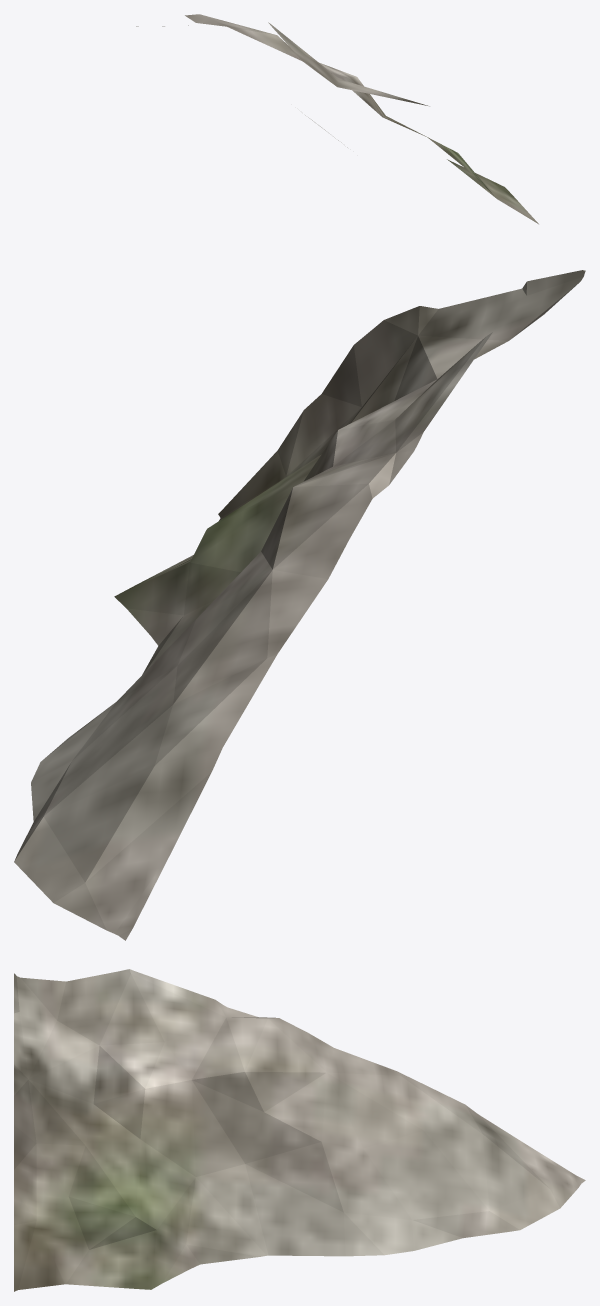
The picture shows the model from 3 angles, top to bottom: view 1: azimuth 30°, elevation 25°; view 2: azimuth 150°, elevation 25°; view 3: azimuth 270°, elevation 25°; orthographic projection. The views are drawn at different scales.
Size of the model in its own units: 0.4233 by 0.3738 by 0.917.
1 material, 1 textured.
